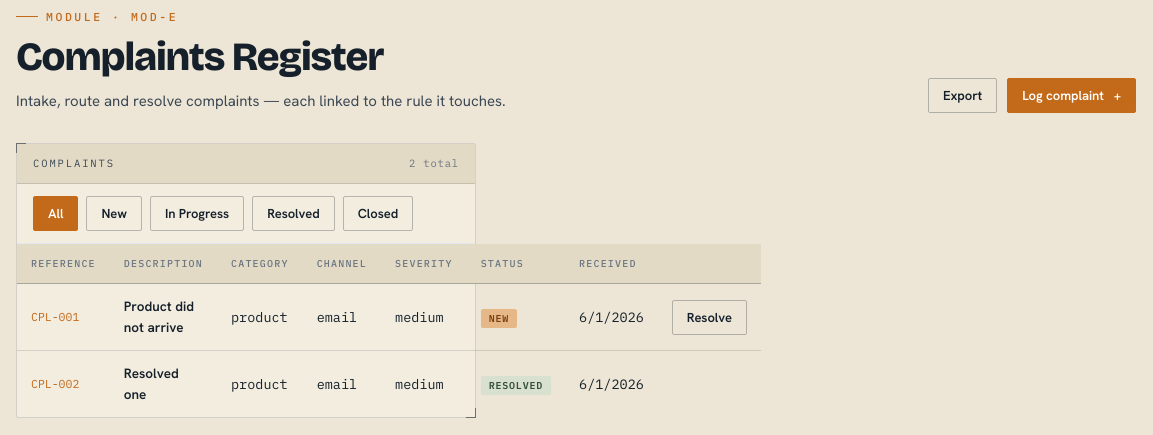
Scenario: ComplaintsPage › filters complaints by status
Expected: the text "Product did not arrive" is shown, [110,284,217,350]
Expected: the text "Resolved one" is shown, [110,351,217,417]
Note: Filter to 'new' only
Click the button "New".
click(114, 213)  # box [86,196,142,231]
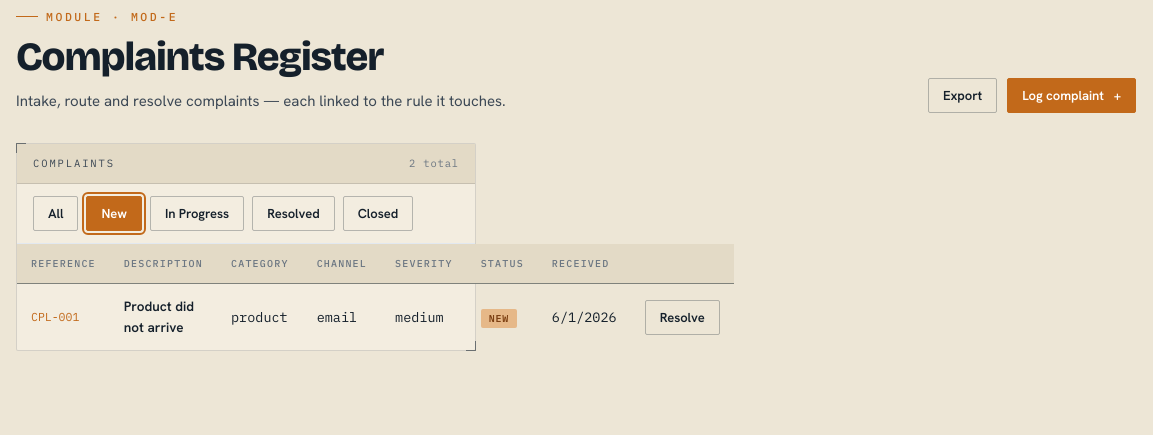
Expected: the text "Product did not arrive" is shown, [110,284,217,350]
Expected: the text "Resolved one" is gone
Note: Filter to 'resolved' only
Click the button "Resolved".
click(293, 213)  # box [252,196,335,231]
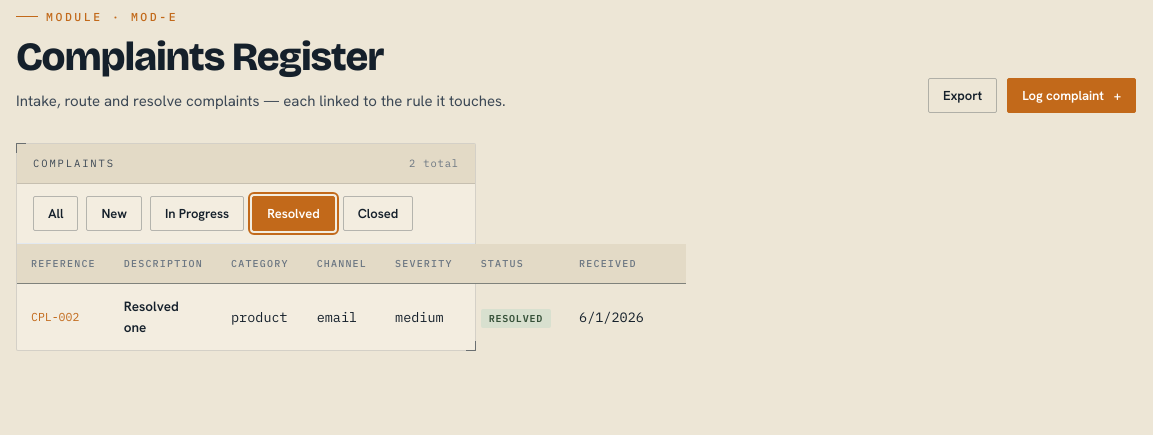
Expected: the text "Product did not arrive" is gone
Expected: the text "Resolved one" is shown, [110,284,217,350]
